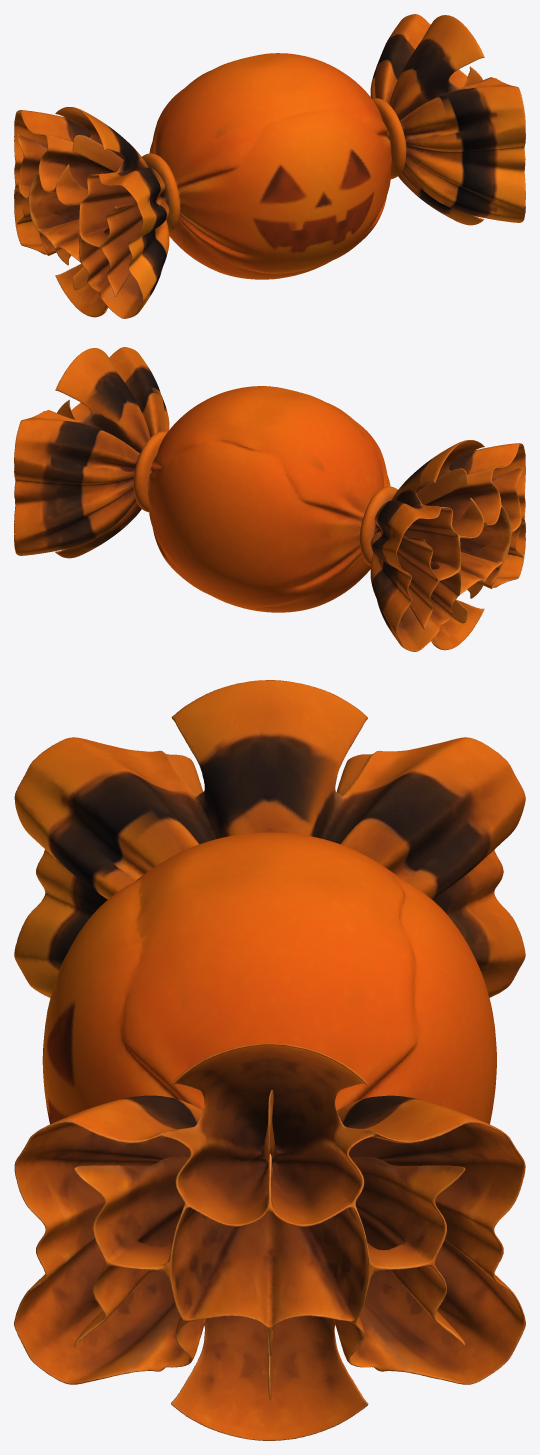
File: Meshy_AI_Pumpkin_Wrapper_Candy_20261023_texture.obj
3 views of the same model, one above another, from view 1: azimuth 30°, elevation 25°; view 2: azimuth 150°, elevation 25°; view 3: azimuth 270°, elevation 25° (orthographic). The views are drawn at different scales.
Visible parts, largest first — view 1: Meshy_AI_Pumpkin_Wrapper_Candy_20261023_texture; view 2: Meshy_AI_Pumpkin_Wrapper_Candy_20261023_texture; view 3: Meshy_AI_Pumpkin_Wrapper_Candy_20261023_texture.
Boxes of the visible parts, left/top/right/bottom form: Meshy_AI_Pumpkin_Wrapper_Candy_20261023_texture: left=14, top=14, right=525, bottom=318; Meshy_AI_Pumpkin_Wrapper_Candy_20261023_texture: left=14, top=347, right=525, bottom=651; Meshy_AI_Pumpkin_Wrapper_Candy_20261023_texture: left=14, top=680, right=525, bottom=1440.
Bounding box in the file's own units: 1.9 × 0.8449 × 0.982.
1 material, 1 textured.
